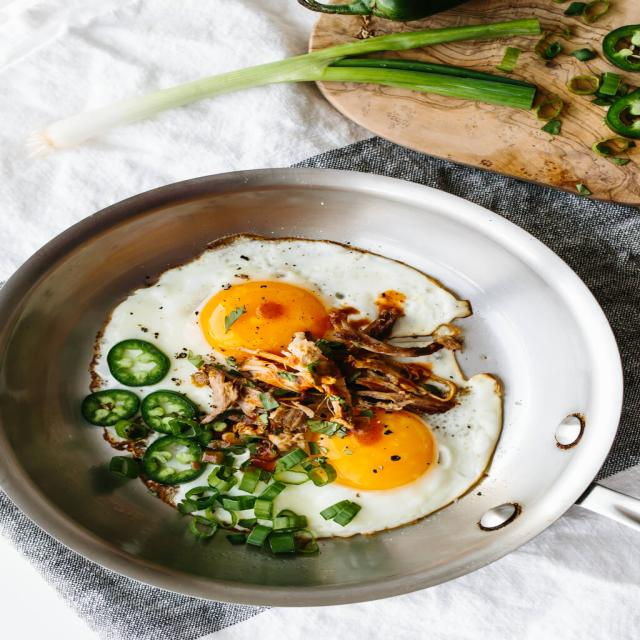Egg: (96, 235, 471, 381), (274, 350, 502, 538)
